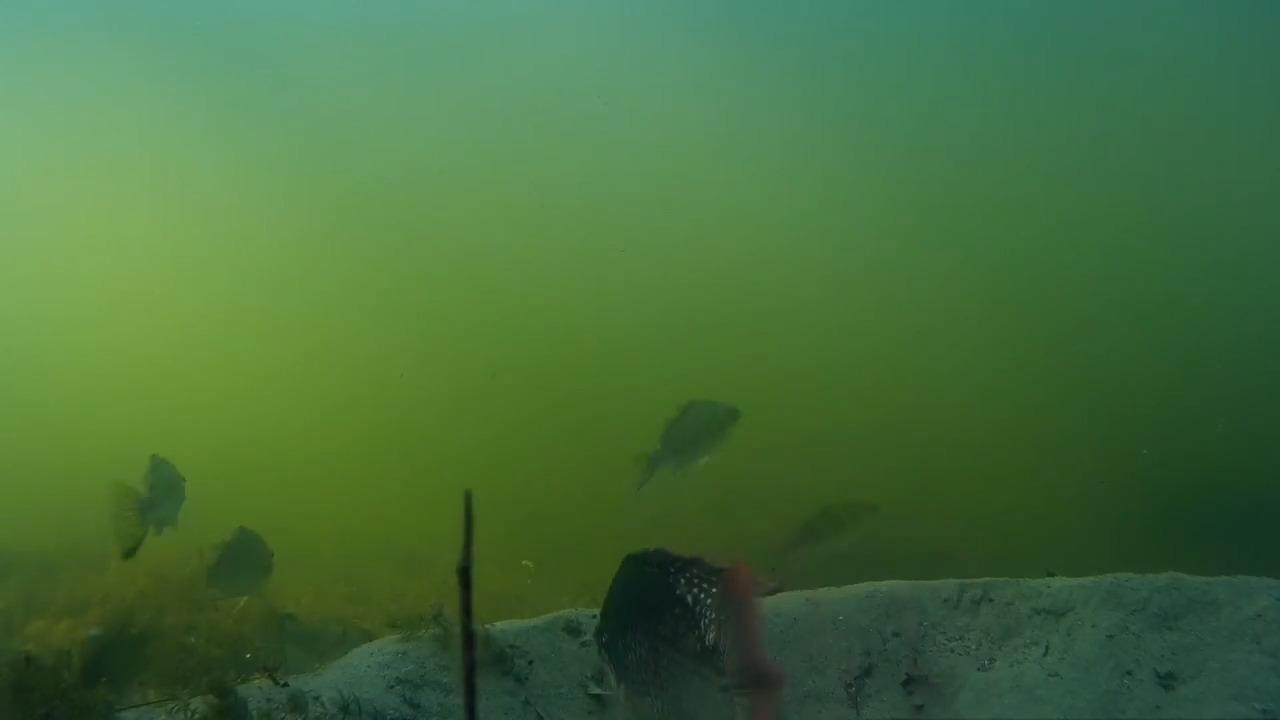Tilapia: (570, 542, 808, 720), (617, 390, 757, 498), (81, 451, 205, 570), (188, 514, 293, 610), (794, 492, 887, 566)
